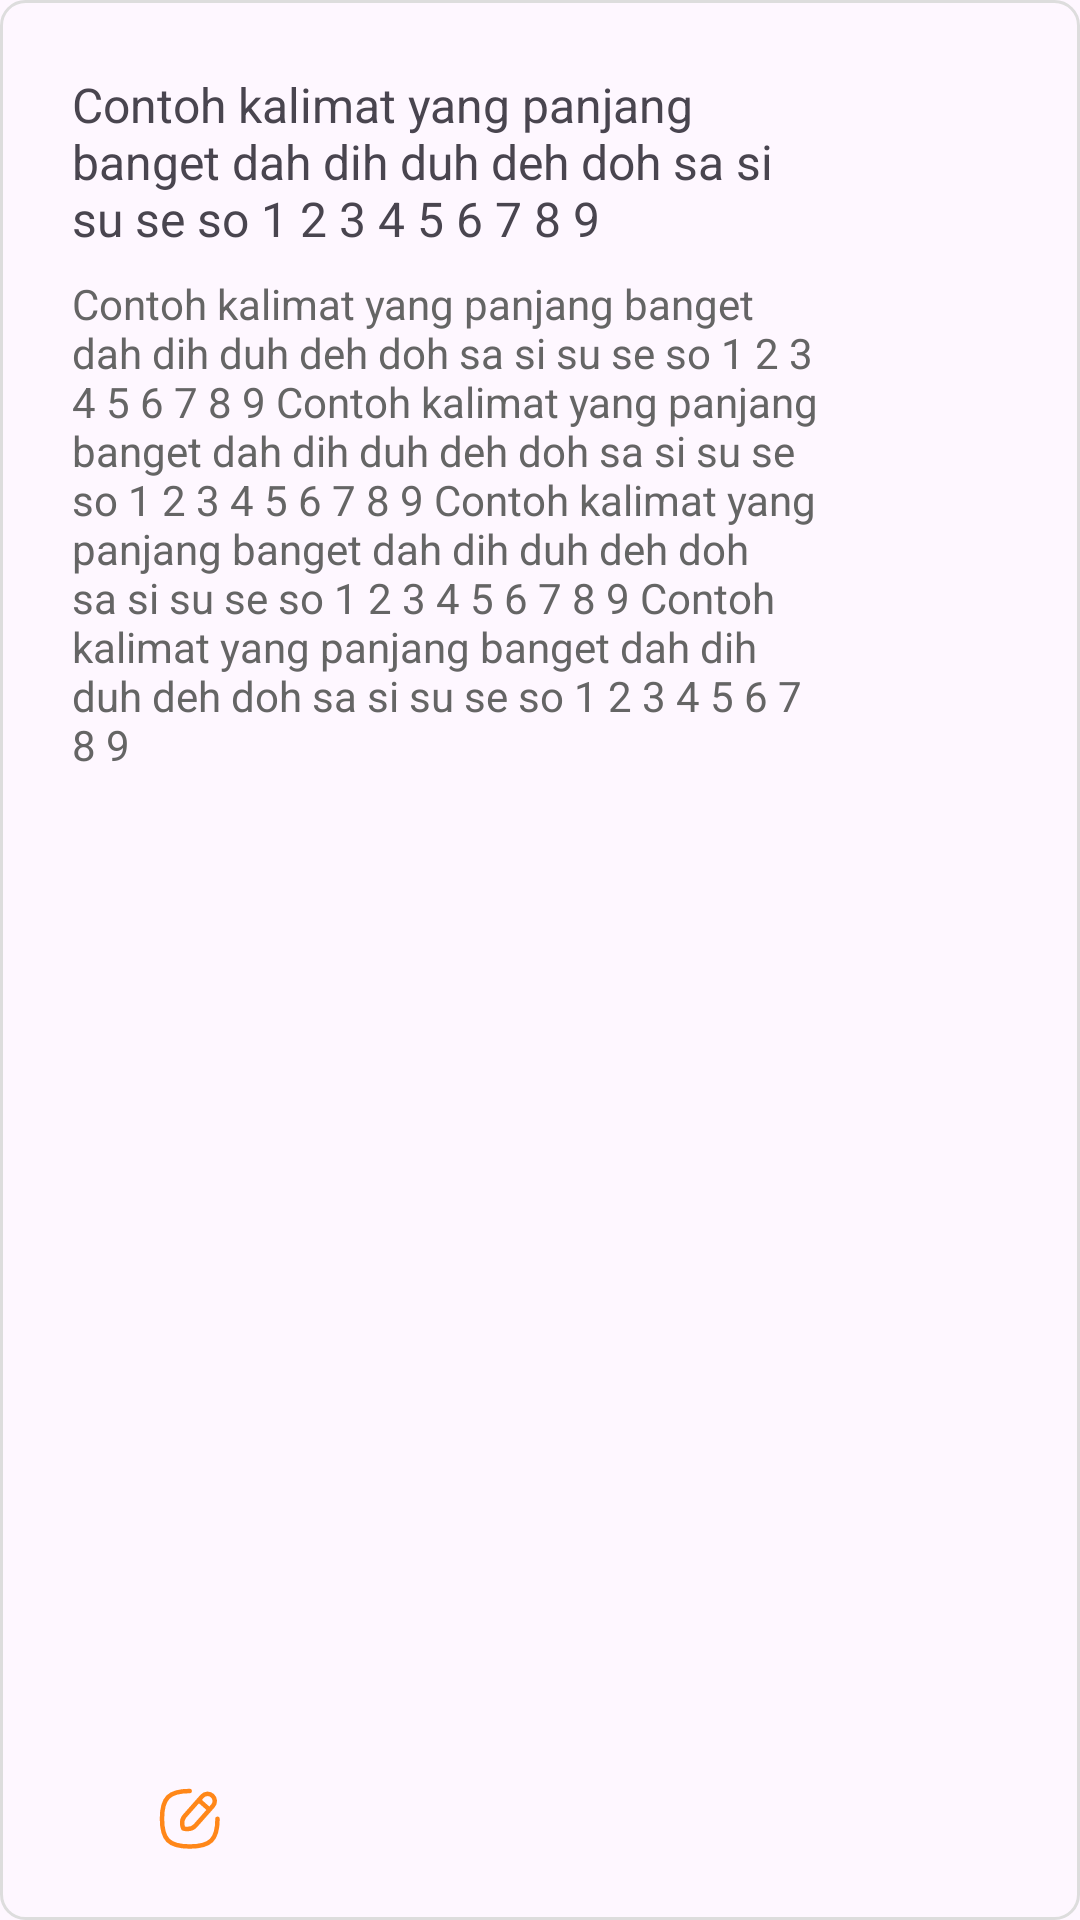

Point at icon controls on the screen. Image size 1080px×1920px, points as [x,y].
edit tile item: [189,1818]
